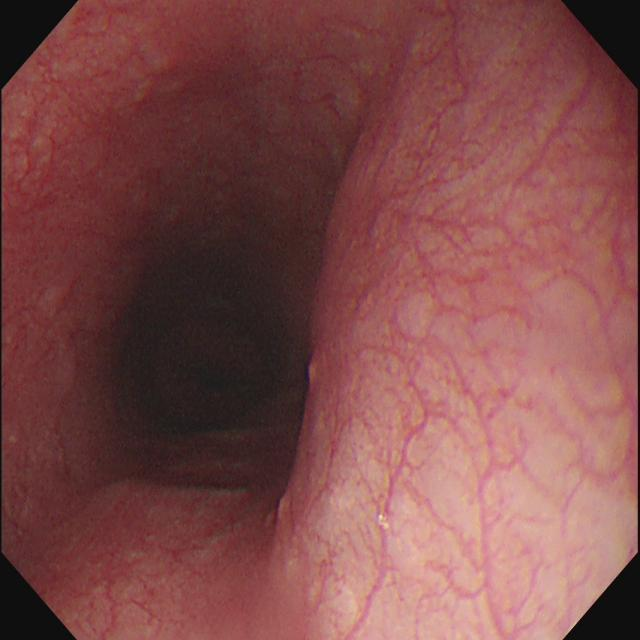E: (100, 232, 315, 471)
